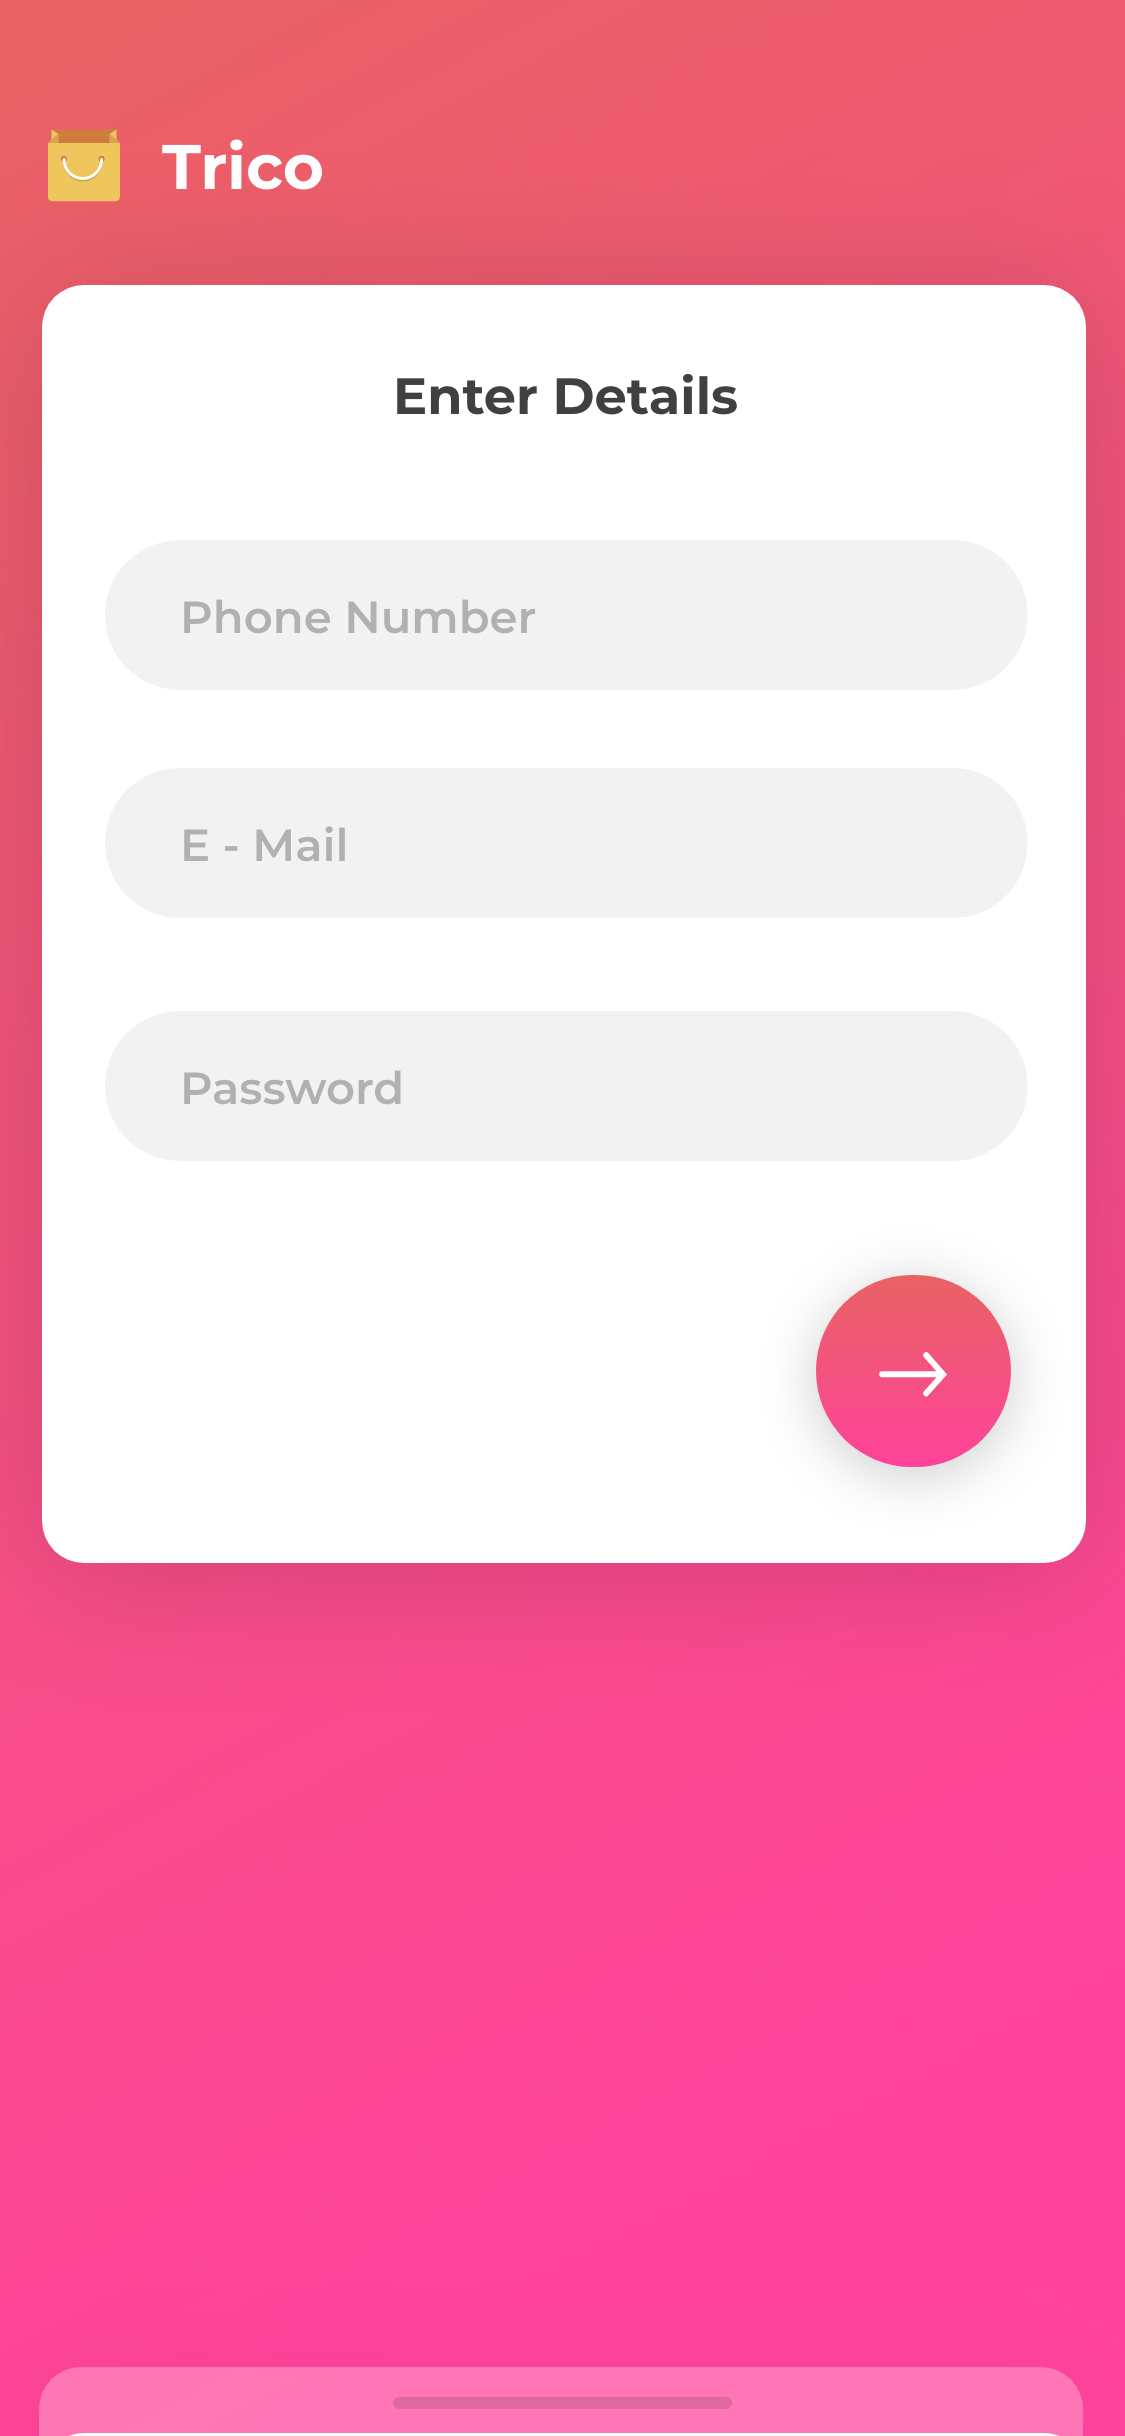EditText: (106, 767, 1029, 920), (106, 541, 1029, 691), (106, 1011, 1029, 1162)
Icon: (816, 1275, 1012, 1468)
Image: (48, 130, 123, 204)
Text: (392, 367, 737, 415), (183, 600, 536, 635), (162, 138, 325, 193), (183, 1070, 401, 1106), (183, 826, 347, 862)
